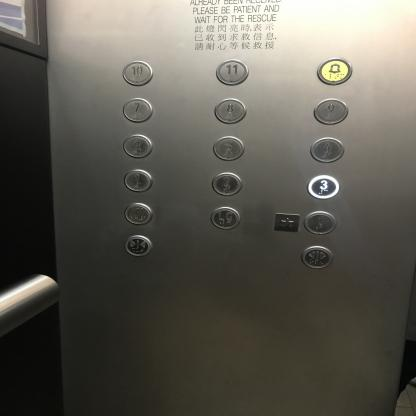1: (122, 169, 154, 193)
10: (120, 59, 154, 87)
11: (216, 58, 249, 86)
2: (211, 172, 243, 196)
3: (307, 174, 341, 200)
4: (121, 133, 154, 159)
5: (212, 134, 246, 160)
6: (309, 137, 346, 163)
7: (121, 97, 154, 123)
8: (212, 97, 248, 124)
9: (312, 96, 350, 126)
G: (302, 210, 338, 235)
LG: (208, 206, 242, 230)
LG1: (122, 202, 154, 225)
alarm: (315, 56, 353, 86)
close: (123, 233, 152, 258)
open: (300, 245, 334, 269)
s: (272, 211, 301, 233)
